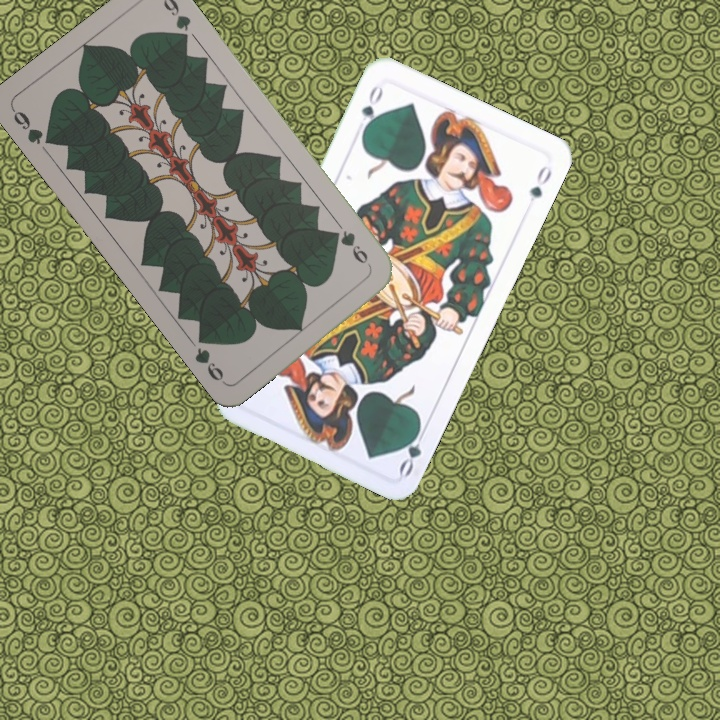G9: (8, 105, 58, 148), (328, 226, 371, 267)
GO: (395, 420, 430, 479), (357, 81, 386, 137)
